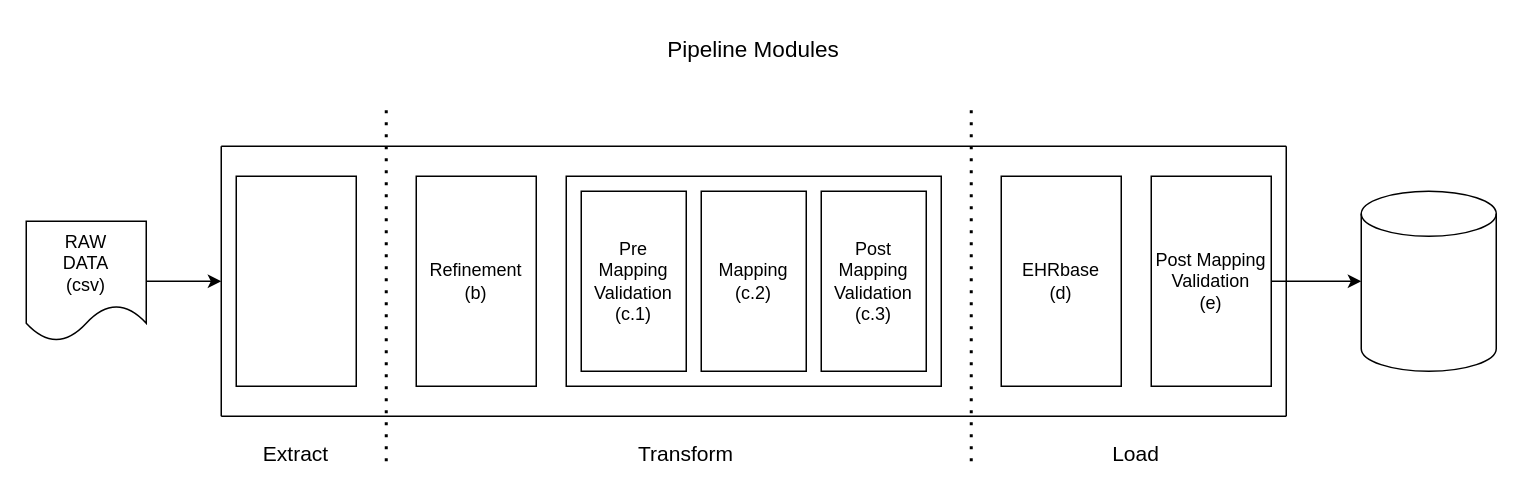
This 1523x501 diagram has some shape labels left out. Here are the shapes that lost their labels. From the top down, the centre of each, then its label:
At point (295, 280): "Input (a)".
At point (1428, 280): "openEHR compliant data".
